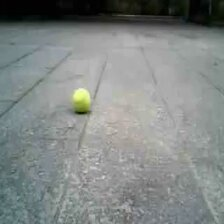tennis: (73, 88, 90, 111)
